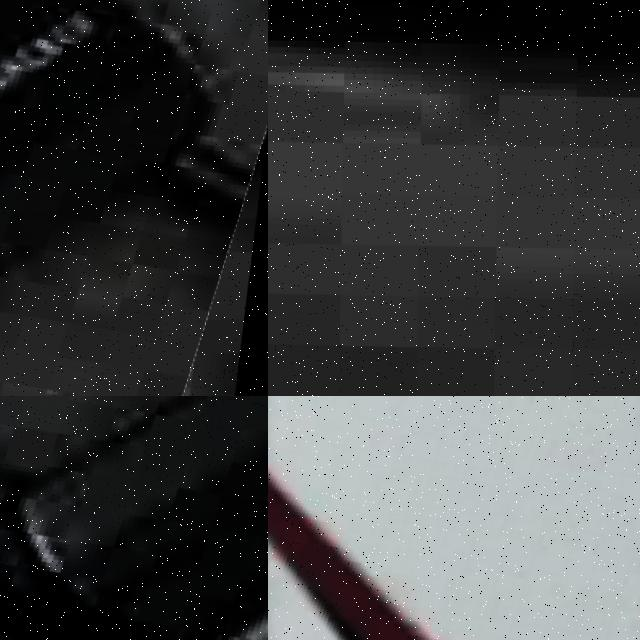drone: (0, 0, 268, 396), (268, 396, 640, 640), (0, 396, 268, 640)
